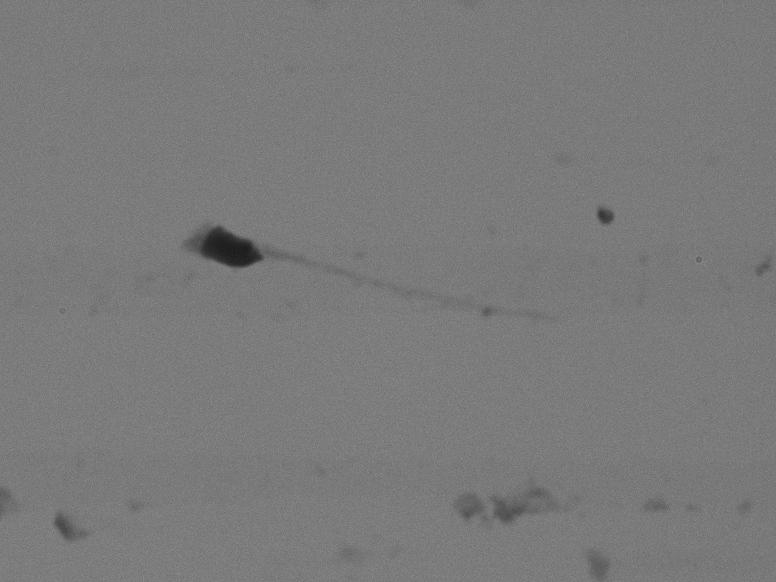Abnormal: (149, 181, 662, 333)
